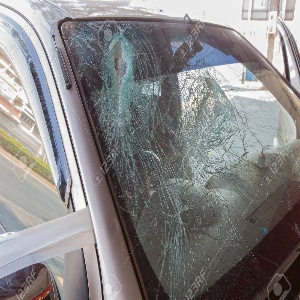front_windshield_glass: (98, 17, 300, 257)
